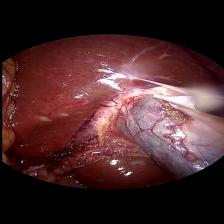Hook: (148, 92, 204, 109)
